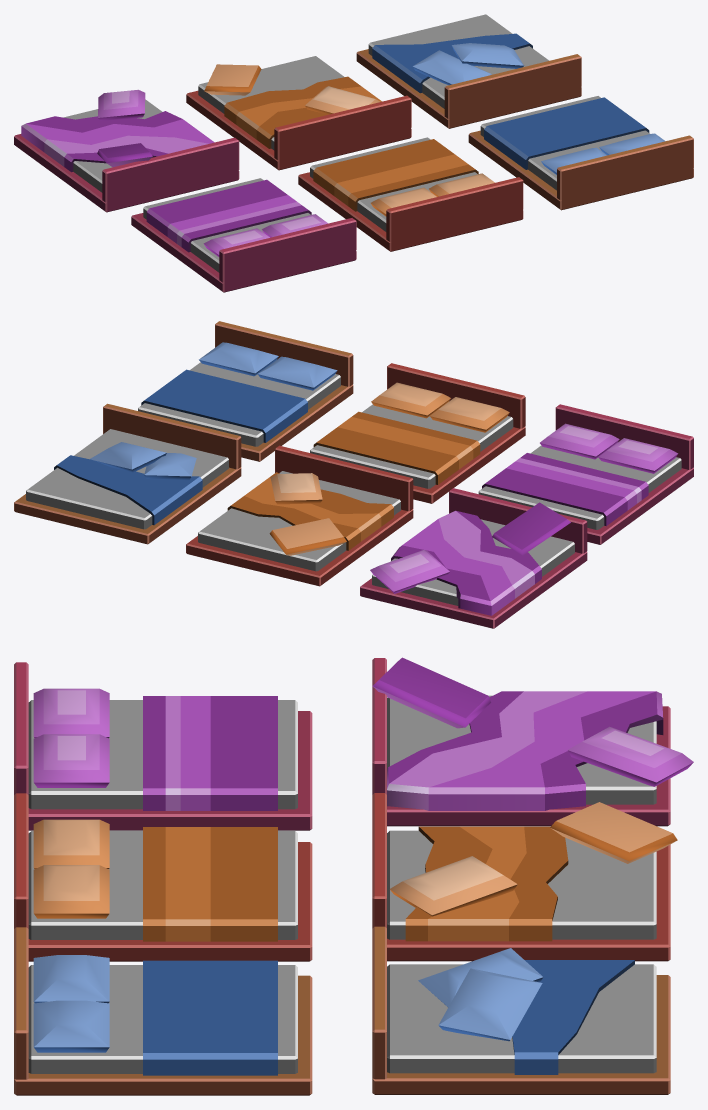
Rendered from BedA.fbx.
3 renders of one model, top to bottom at view 1: azimuth 30°, elevation 25°; view 2: azimuth 150°, elevation 25°; view 3: azimuth 270°, elevation 25°, orthographic. The views are drawn at different scales.
Visible parts, largest first — view 1: BedAUsedIndex2, BedAUsedIndex1, BedAAvailableIndex2, BedAAvailableIndex0, BedAAvailableIndex1, BedAUsedIndex0; view 2: BedAUsedIndex2, BedAUsedIndex1, BedAUsedIndex0, BedAAvailableIndex1, BedAAvailableIndex0, BedAAvailableIndex2; view 3: BedAUsedIndex1, BedAUsedIndex2, BedAAvailableIndex0, BedAUsedIndex0, BedAAvailableIndex1, BedAAvailableIndex2.
Boxes of the visible parts, x1=… form: BedAUsedIndex2: x1=14, y1=89, x2=239, y2=212; BedAUsedIndex1: x1=186, y1=56, x2=411, y2=170; BedAAvailableIndex2: x1=131, y1=178, x2=356, y2=292; BedAAvailableIndex0: x1=468, y1=96, x2=693, y2=210; BedAAvailableIndex1: x1=298, y1=137, x2=523, y2=251; BedAUsedIndex0: x1=356, y1=14, x2=581, y2=128; BedAUsedIndex2: x1=360, y1=488, x2=587, y2=628; BedAUsedIndex1: x1=186, y1=445, x2=413, y2=586; BedAUsedIndex0: x1=14, y1=403, x2=241, y2=544; BedAAvailableIndex1: x1=310, y1=363, x2=525, y2=503; BedAAvailableIndex0: x1=138, y1=321, x2=353, y2=461; BedAAvailableIndex2: x1=478, y1=404, x2=693, y2=544; BedAUsedIndex1: x1=372, y1=793, x2=677, y2=961; BedAUsedIndex2: x1=372, y1=657, x2=693, y2=826; BedAAvailableIndex0: x1=14, y1=927, x2=312, y2=1095; BedAUsedIndex0: x1=372, y1=926, x2=670, y2=1094; BedAAvailableIndex1: x1=14, y1=793, x2=312, y2=961; BedAAvailableIndex2: x1=14, y1=662, x2=312, y2=830.
Size of the model in its own units: 855 by 83.43 by 657.
